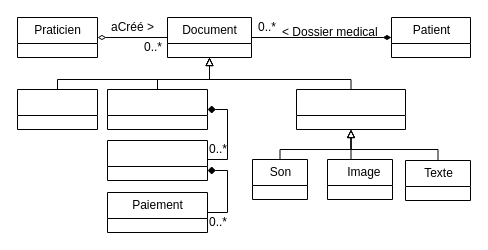
Image size: 488x250. Some labels were removed from this diagram. The shapes that lost their labels are listed below. From the top down, each one's box as (x1, y1, x2, y2) in pixels, then its label:
(16, 88, 98, 130): Suivi
(106, 88, 208, 130): Prescription
(296, 88, 406, 130): Document MIME
(106, 140, 208, 180): Facture
